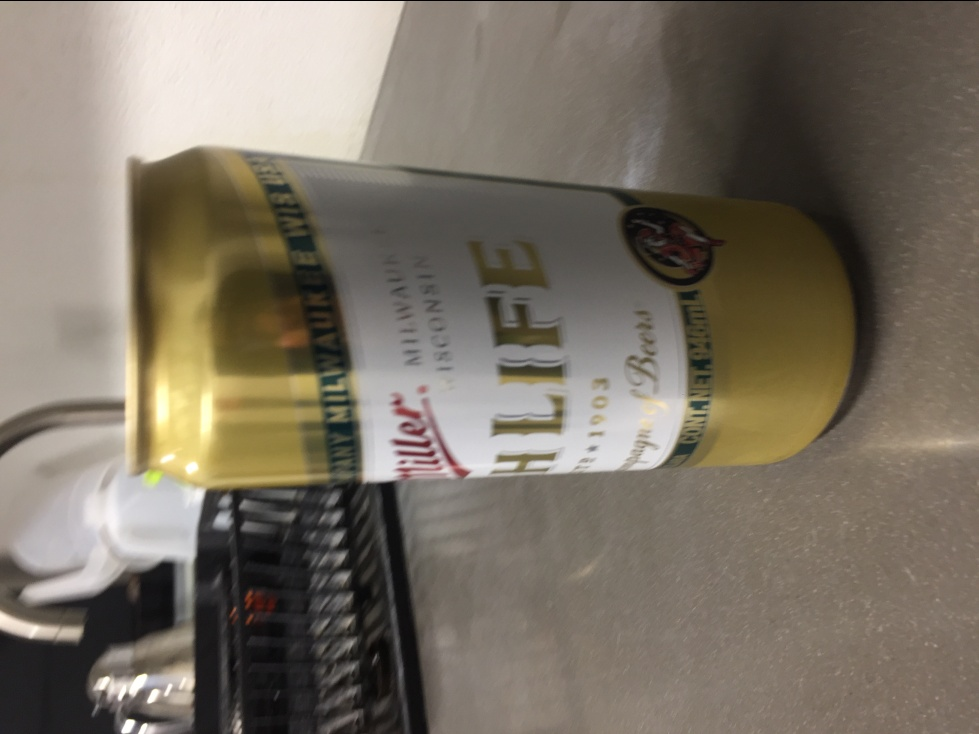miller: (117, 145, 871, 490)
